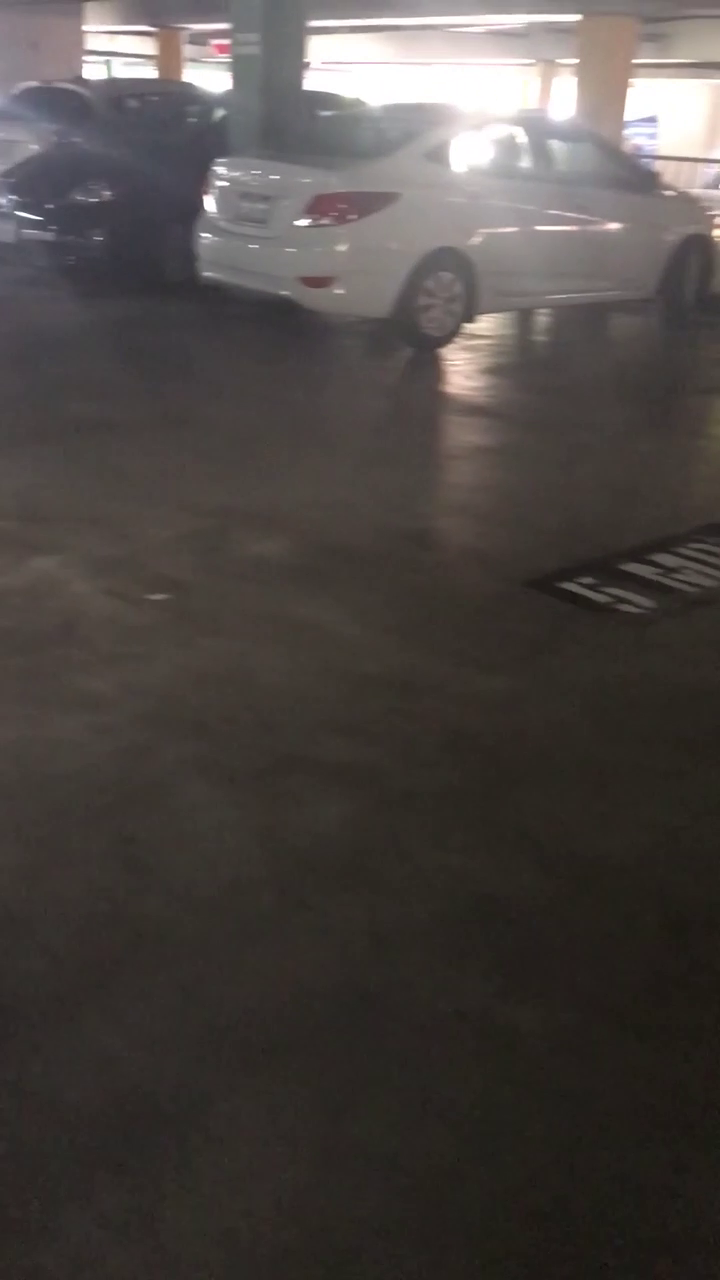car: (0, 76, 244, 285)
